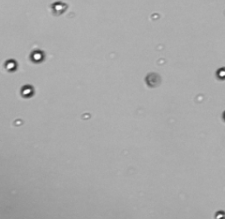Dead Cell: (146, 72, 161, 86)
Living Cell: (52, 1, 66, 14), (21, 84, 34, 97), (30, 50, 43, 62), (5, 59, 17, 71)
